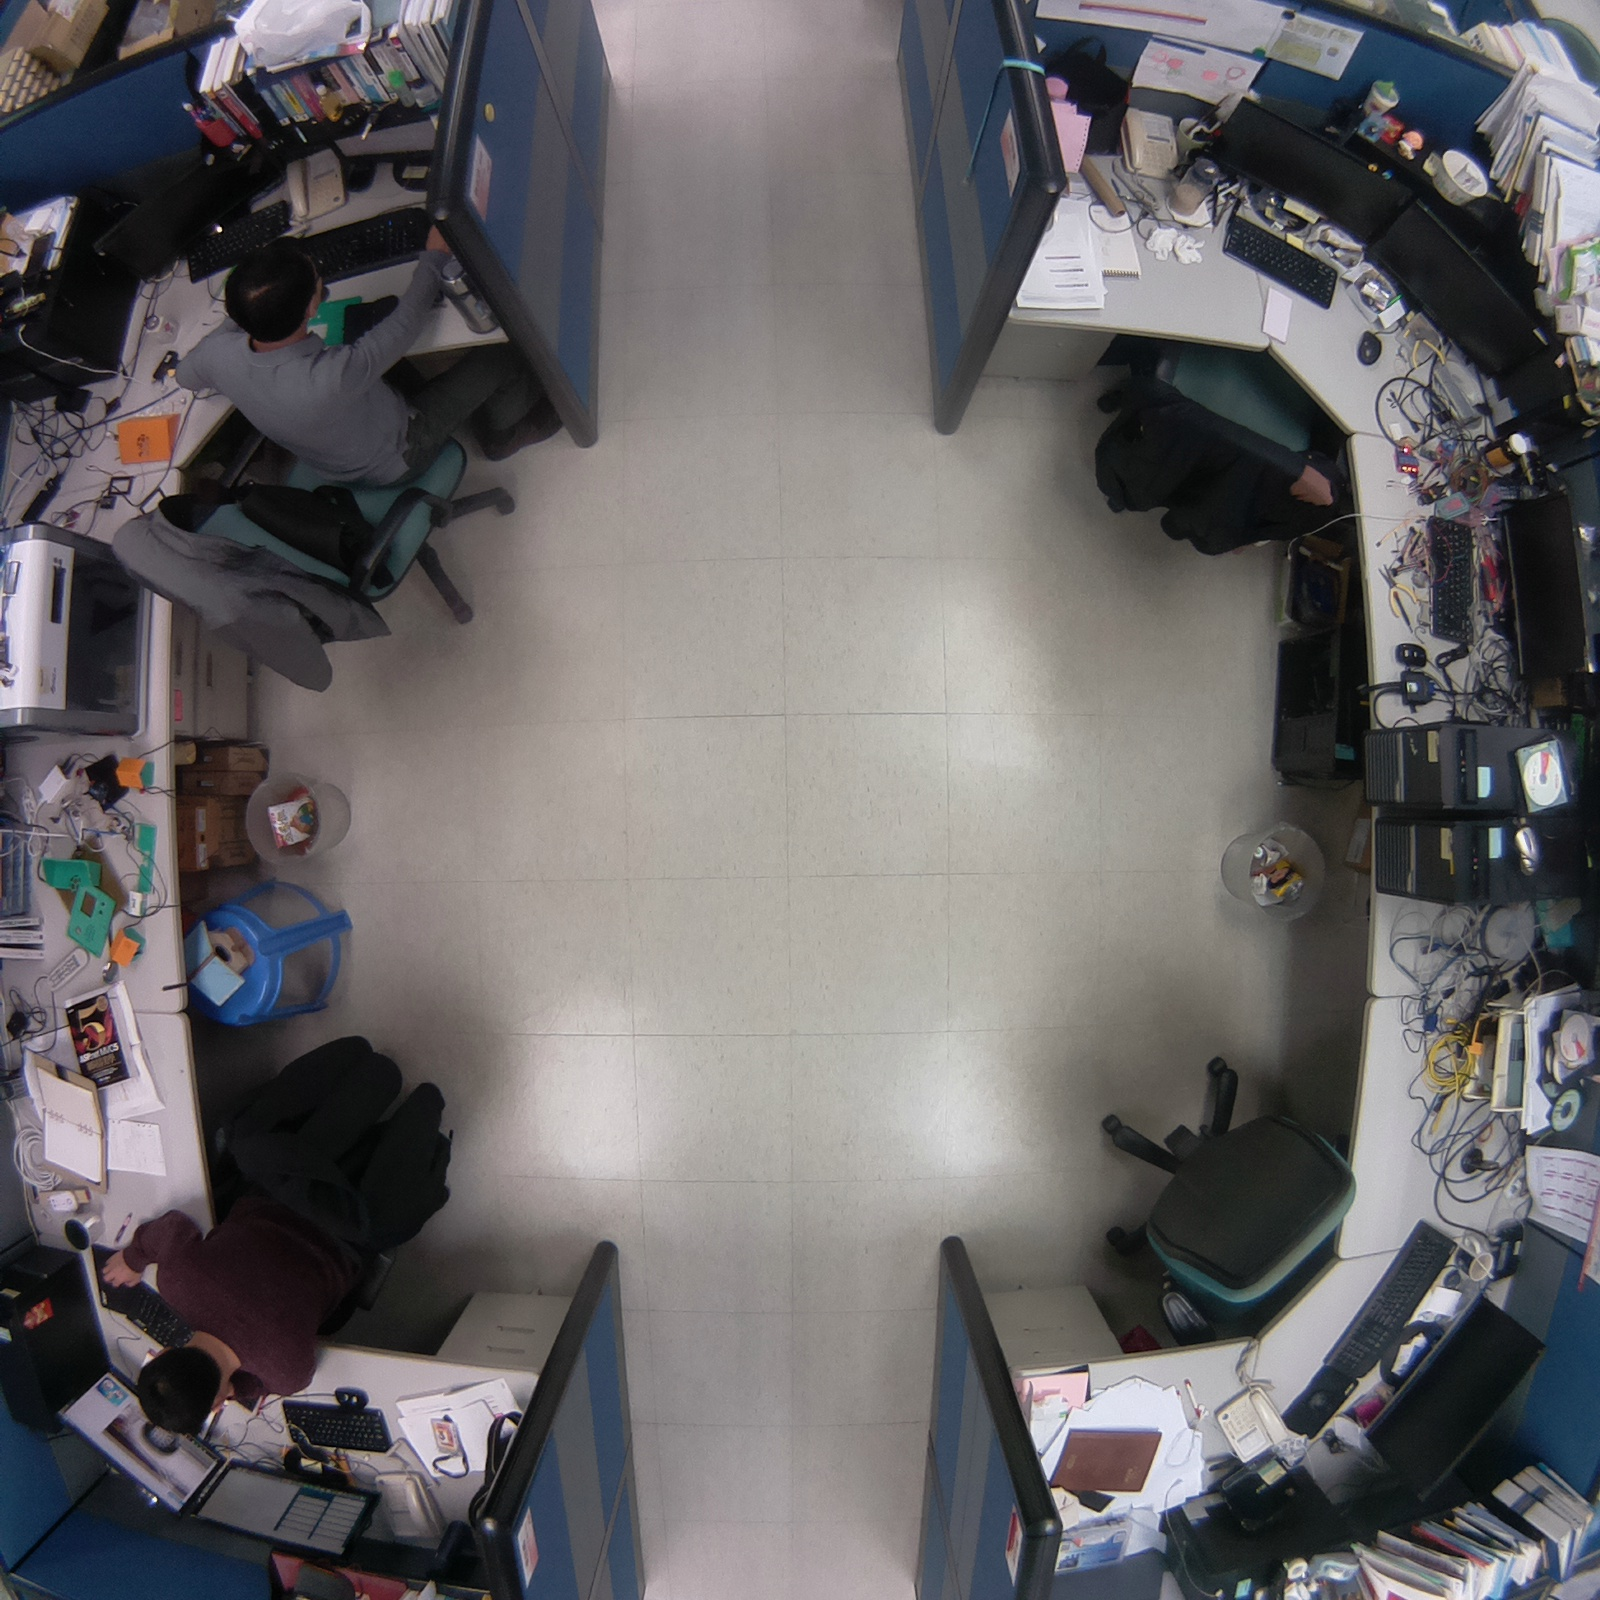chair: (1060, 1040, 1370, 1370), (1065, 319, 1363, 570)
head: (212, 234, 332, 346), (129, 1338, 229, 1444)
sitting: (96, 214, 527, 711), (91, 1009, 476, 1452)
